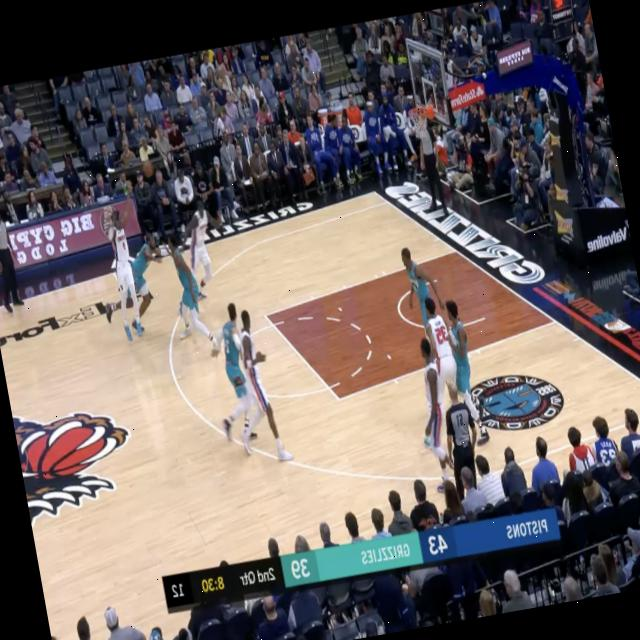no foul: (67, 180, 188, 354), (192, 283, 298, 479), (426, 270, 504, 452), (398, 317, 461, 479), (154, 220, 216, 360)
